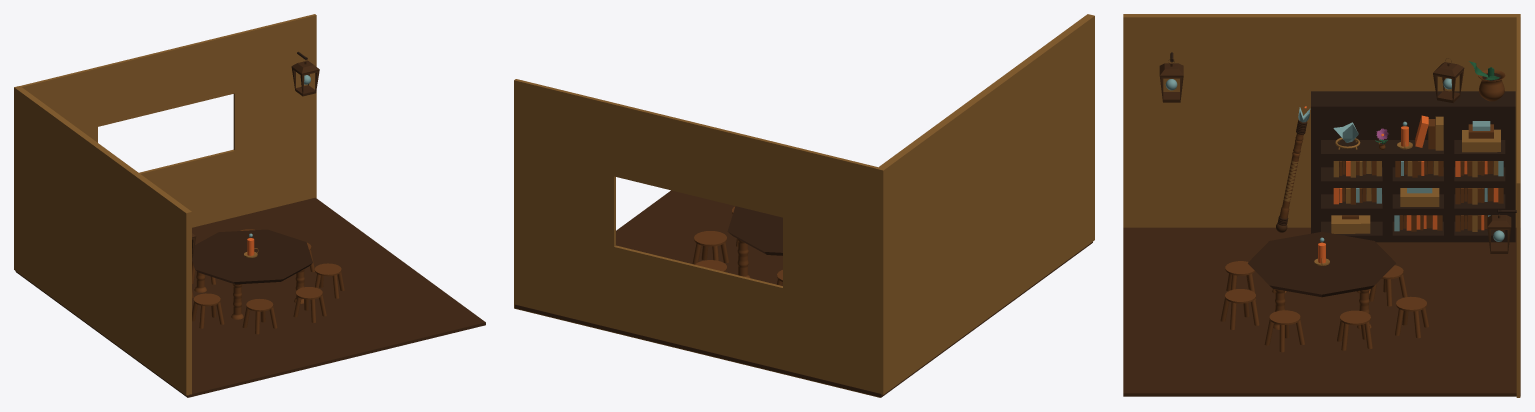
Rendered from Tavern Set 1.fbx.
3 renders of one model, left to right at view 1: azimuth 30°, elevation 25°; view 2: azimuth 150°, elevation 25°; view 3: azimuth 270°, elevation 25°, orthographic. The views are drawn at different scales.
Parts seen in each view (by area): view 1: BookShelf_Wall, Window_Wall, Floor, TableTop, Stool20, Stool21, Stool8:Stool, Stool15, Lanturn3; view 2: Window_Wall, BookShelf_Wall, Floor, TableTop, Stool16; view 3: BookShelf_Wall, Floor, Bookshelf, TableTop, Window_Wall, Staff:Staff, Stool8:Stool, Stool15, Stool17, Stool16, Lanturn4, Book76 (+7 smaller).
Part boxes in pixels (x1,y1,x2,y2): BookShelf_Wall: (14,86,191,395); Window_Wall: (17,14,316,227); Floor: (15,197,485,397); TableTop: (192,229,312,284); Stool20: (192,293,224,328); Stool21: (242,299,277,334); Stool8:Stool: (293,287,326,322); Stool15: (314,263,344,298); Lanturn3: (291,57,319,96); Window_Wall: (514,79,881,397); BookShelf_Wall: (876,14,1094,394); Floor: (515,190,1092,397); TableTop: (727,206,782,255); Stool16: (692,231,728,264); BookShelf_Wall: (1123,14,1520,227); Floor: (1123,227,1520,396); Bookshelf: (1311,91,1515,242); TableTop: (1248,231,1395,297); Window_Wall: (1516,15,1520,397); Staff:Staff: (1276,106,1310,232); Stool8:Stool: (1220,289,1259,329); Stool15: (1264,310,1304,352); Stool17: (1395,296,1428,338); Stool16: (1337,310,1372,350); Lanturn4: (1433,58,1464,102); Book76: (1462,129,1500,152).
Bounding box in the file's own units: 101 × 59.58 × 100.
1 material, 1 textured.
